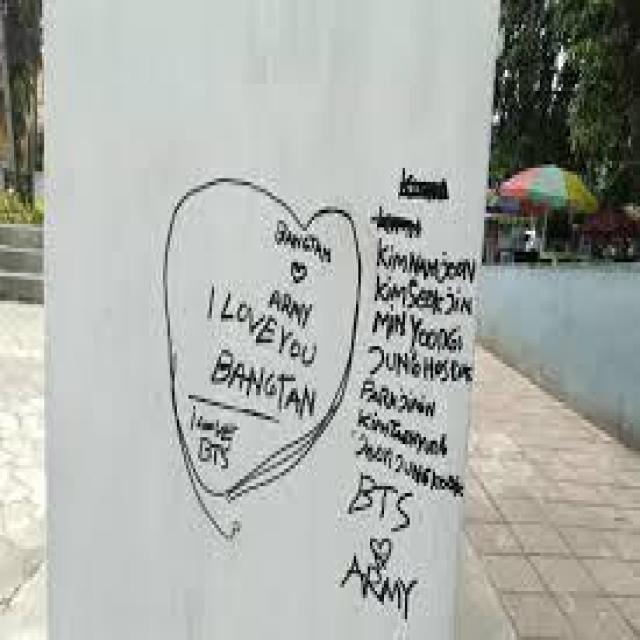nonspitting: (163, 172, 478, 616)
